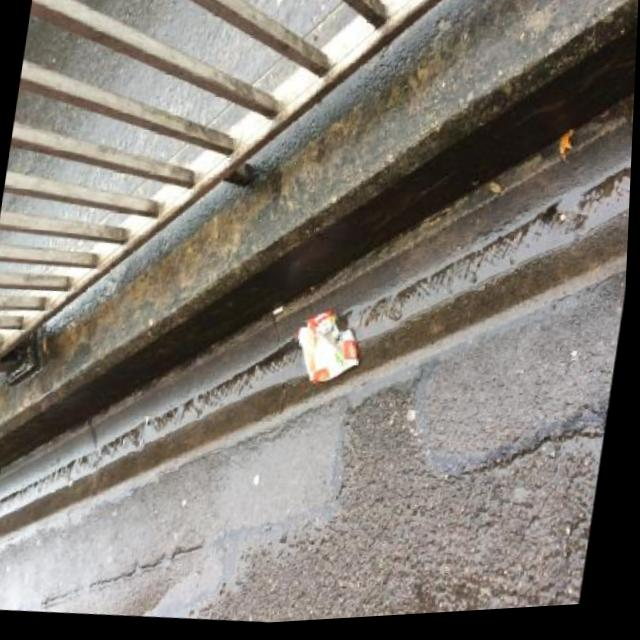cardboard: (286, 304, 368, 388)
